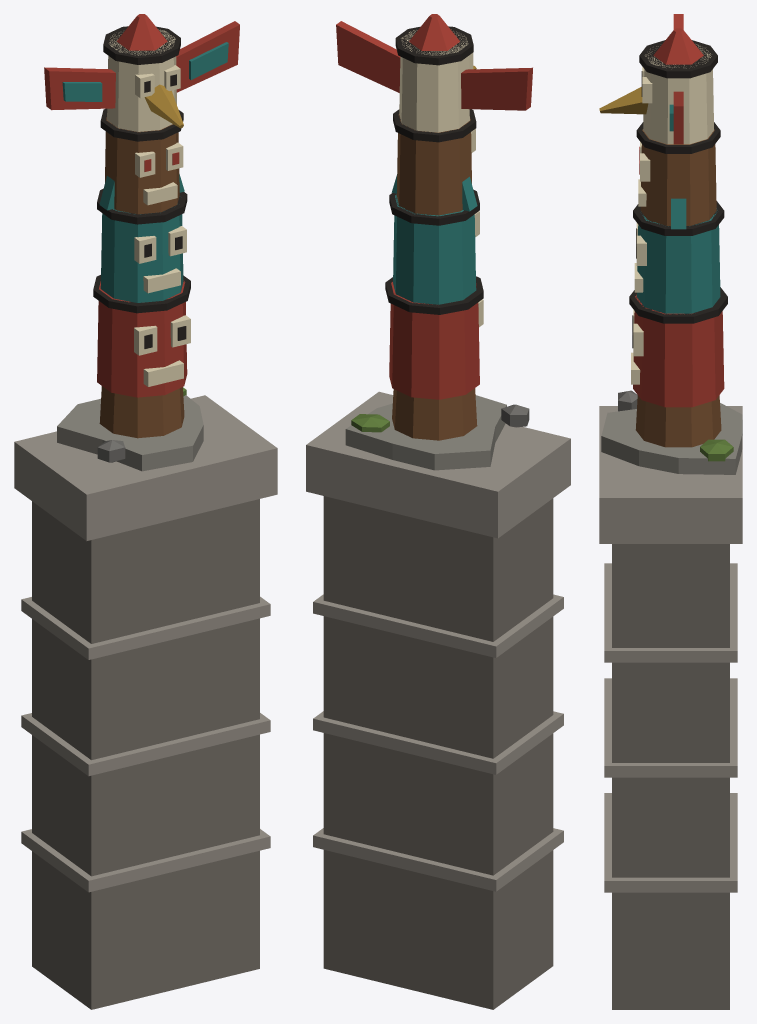
The model's file is decor_totem_pole.glb.
The picture shows the model from 3 angles, left to right: view 1: azimuth 30°, elevation 25°; view 2: azimuth 150°, elevation 25°; view 3: azimuth 270°, elevation 25°; orthographic projection.
Visible parts, largest first — view 1: decor_totem_pole; view 2: decor_totem_pole; view 3: decor_totem_pole.
Part boxes in pixels (box(x1,y1,x2,y2)): decor_totem_pole: box(14, 14, 277, 1009); decor_totem_pole: box(306, 14, 570, 1009); decor_totem_pole: box(599, 14, 742, 1009).
Bounding box in the file's own units: 1.72 × 8.17 × 1.13.
